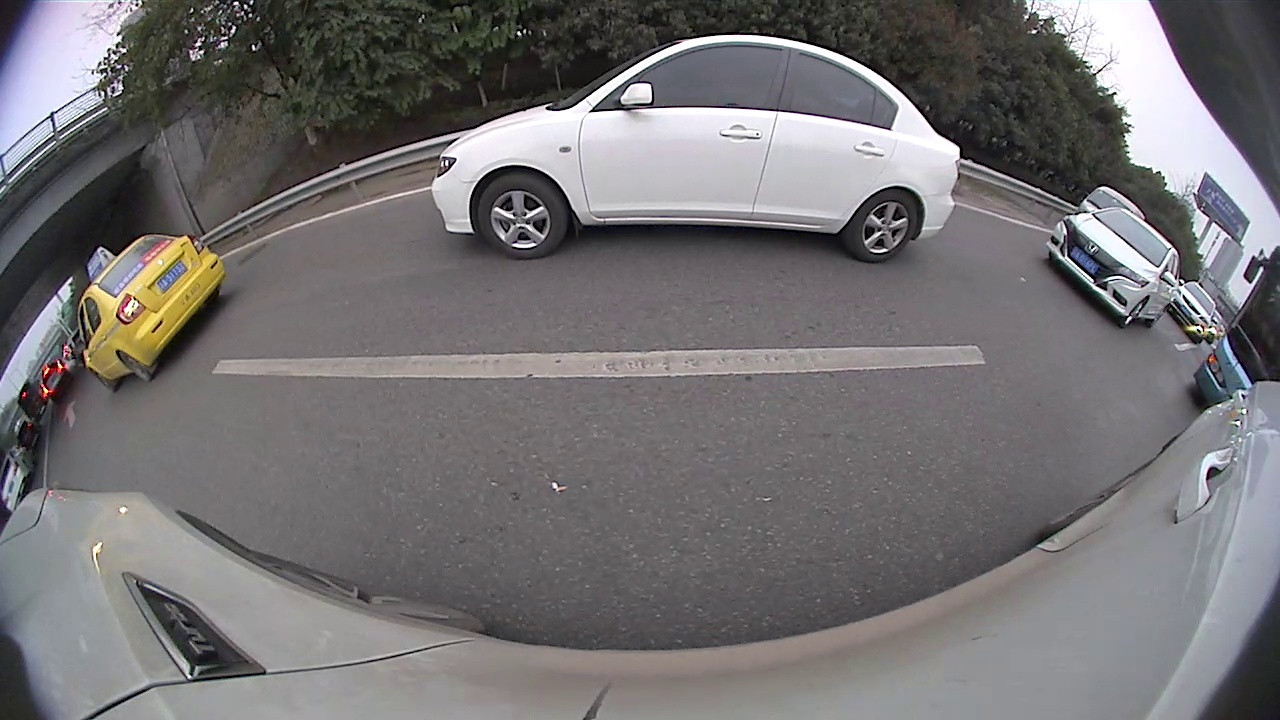bus: (1191, 238, 1279, 405)
car: (431, 31, 964, 261), (75, 230, 229, 394), (1045, 205, 1183, 330), (1072, 182, 1148, 224)
front: (474, 173, 571, 260), (1119, 296, 1151, 329)
rear: (845, 191, 918, 263), (118, 347, 158, 385)
